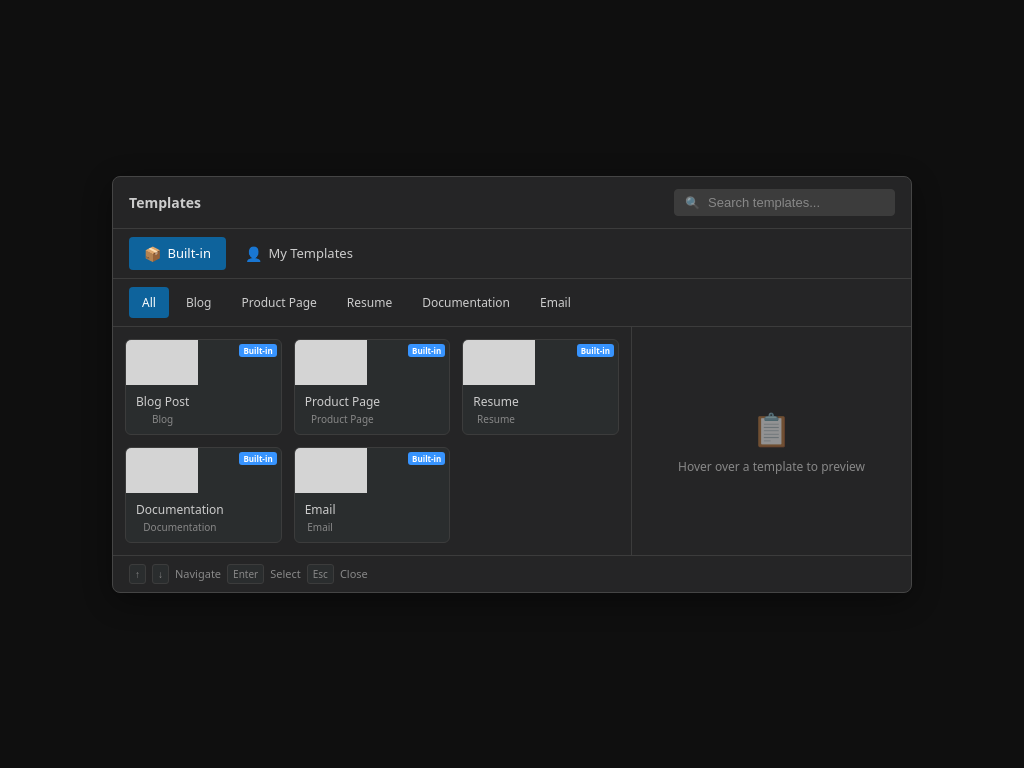
Test case: TemplateSelector.vue › Category Filtering › filters templates by blog category
# Click "Blog" tab (index 2, after "All" and "Product Page")
Click the tab with class "category-tab" showing "Blog".
click(199, 302)  # box [173,286,224,318]
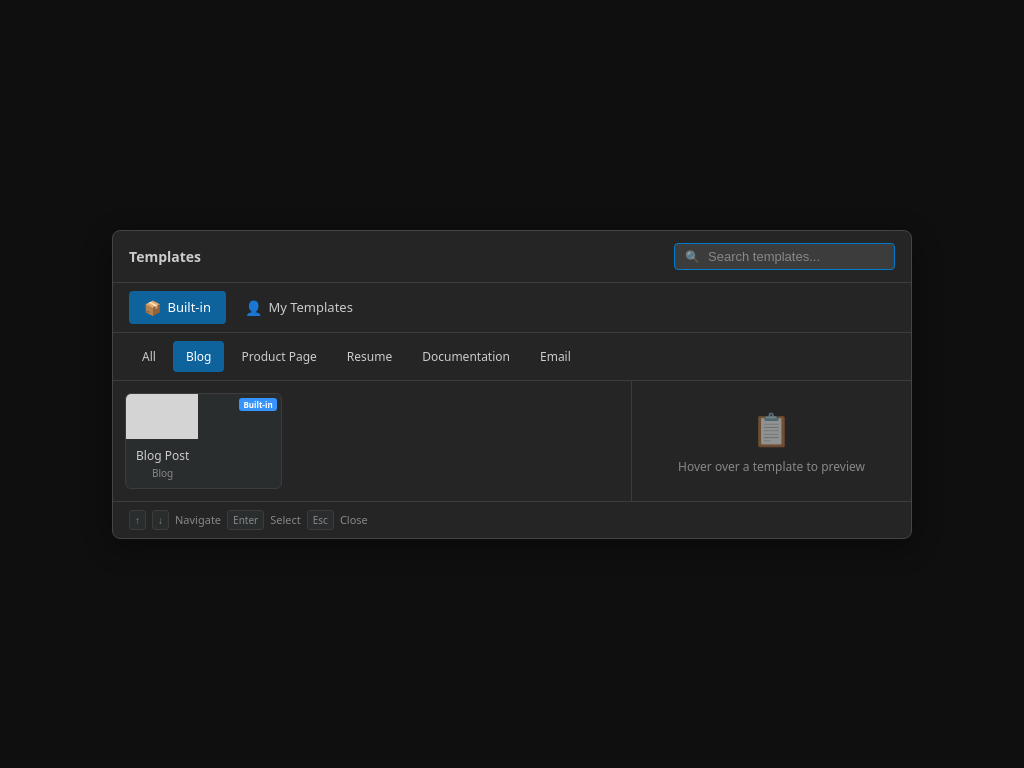
Result: the number of options with class "template-item" is 1 at [125,392,282,488]
